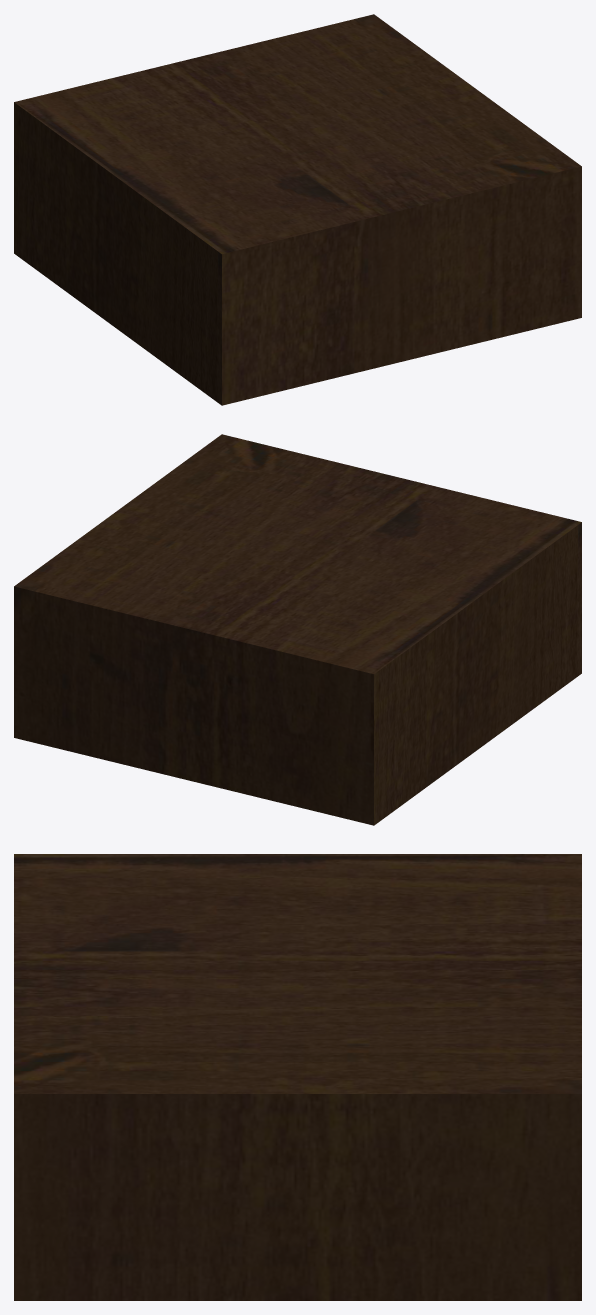
File: SnookerPack.fbx
The picture shows the model from 3 angles, top to bottom: view 1: azimuth 30°, elevation 25°; view 2: azimuth 150°, elevation 25°; view 3: azimuth 270°, elevation 25°; orthographic projection. The views are drawn at different scales.
Parts seen in each view (by area): view 1: Room; view 2: Room; view 3: Room.
Part boxes in pixels (<box>): Room: <box>14,14,581,405</box>; Room: <box>14,434,581,825</box>; Room: <box>14,854,581,1300</box>.
Bounding box in the file's own units: 17256 × 6934 × 17256.
